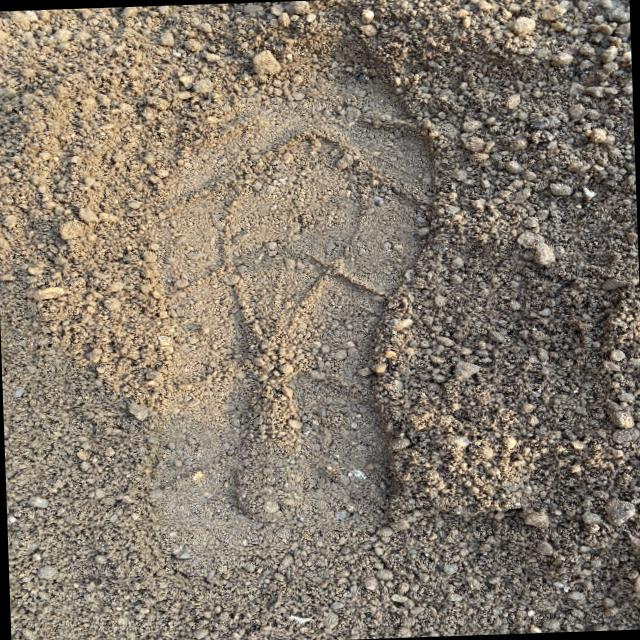human_footprint: (138, 21, 458, 588)
